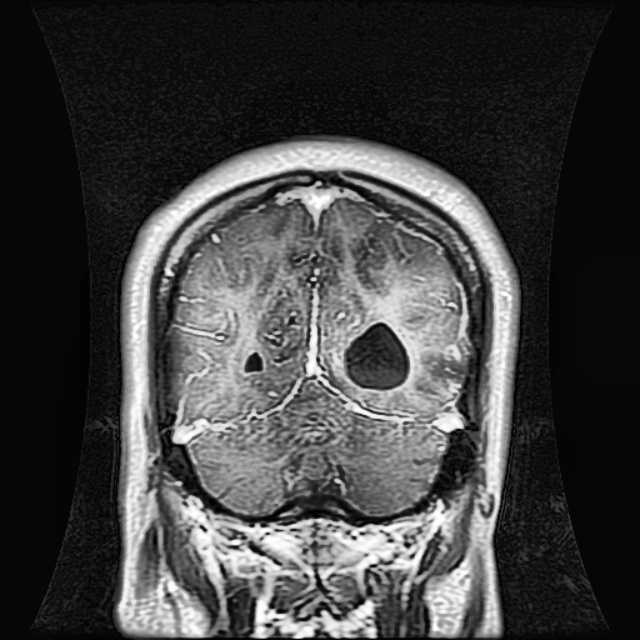Meningioma: (347, 322, 409, 388)
